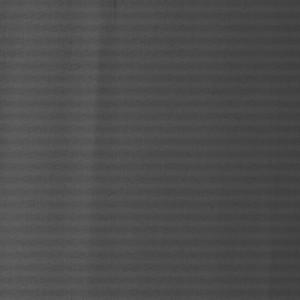Wrinkle: (71, 1, 128, 300)
